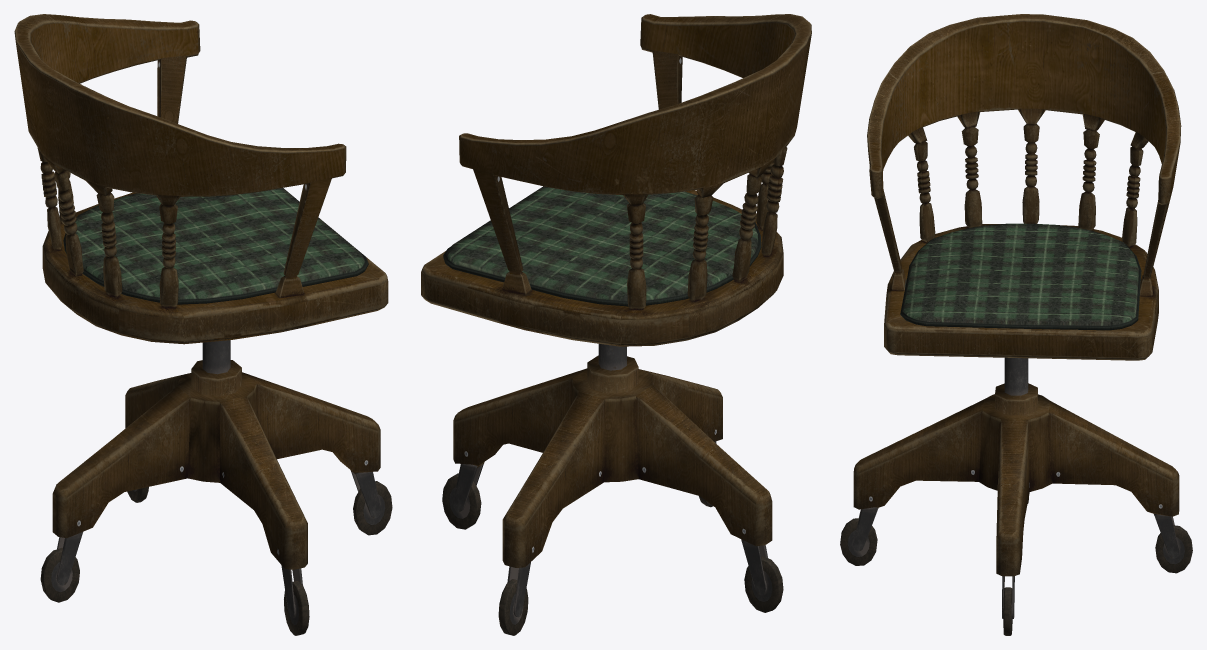
Rendered from sillita.glb.
3 renders of one model, left to right at view 1: azimuth 30°, elevation 25°; view 2: azimuth 150°, elevation 25°; view 3: azimuth 270°, elevation 25°, orthographic. The views are drawn at different scales.
Parts seen in each view (by area): view 1: deskchair_base_low_lowpolytex_0; view 2: deskchair_base_low_lowpolytex_0; view 3: deskchair_base_low_lowpolytex_0.
Part boxes in pixels (x1,y1,x2,y2): deskchair_base_low_lowpolytex_0: (14, 14, 392, 635); deskchair_base_low_lowpolytex_0: (421, 14, 811, 635); deskchair_base_low_lowpolytex_0: (840, 14, 1192, 635).
Bounding box in the file's own units: 0.5997 × 0.9 × 0.5995.
1 material, 1 textured.
